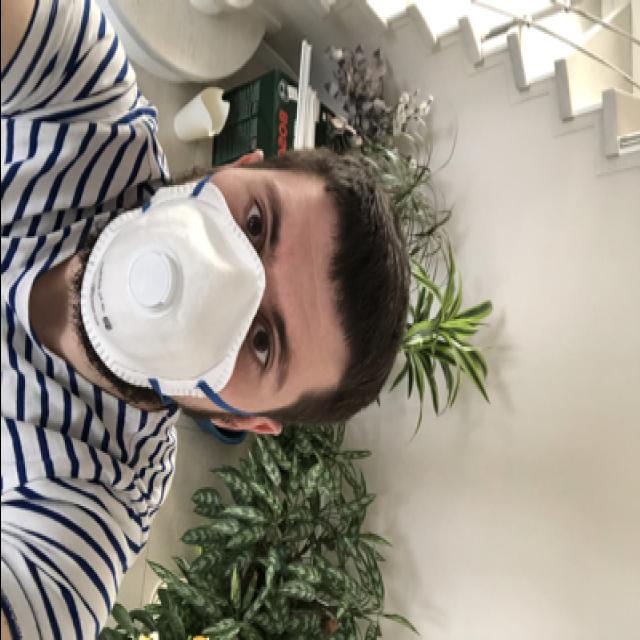with_mask: (74, 172, 316, 406)
